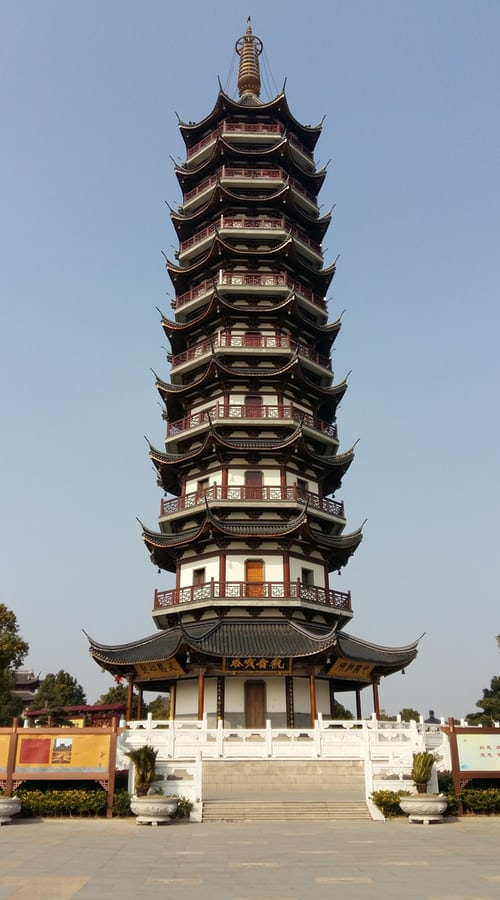Temple: (108, 30, 420, 697)
